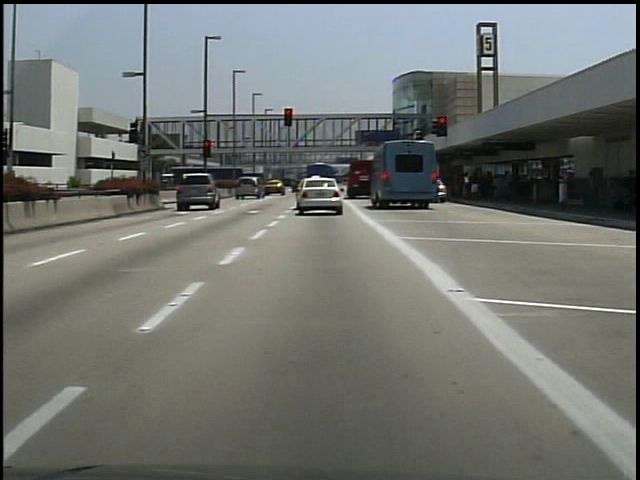person: (621, 168, 639, 222)
